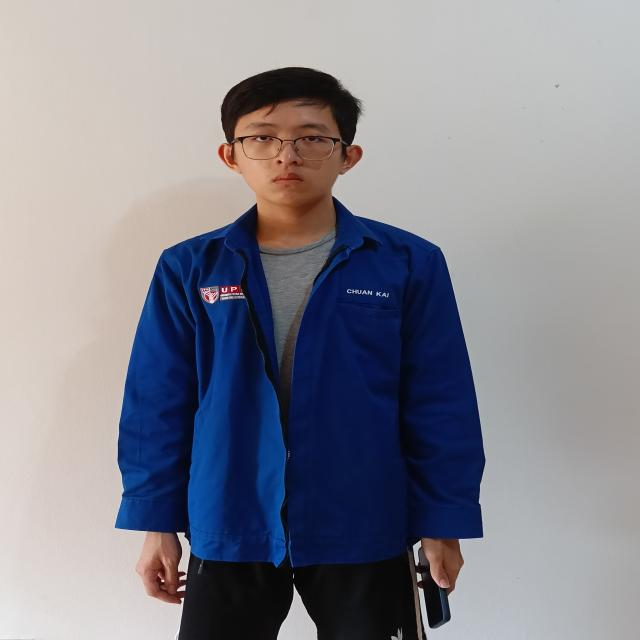person_with_labcoat: (116, 68, 484, 640)
